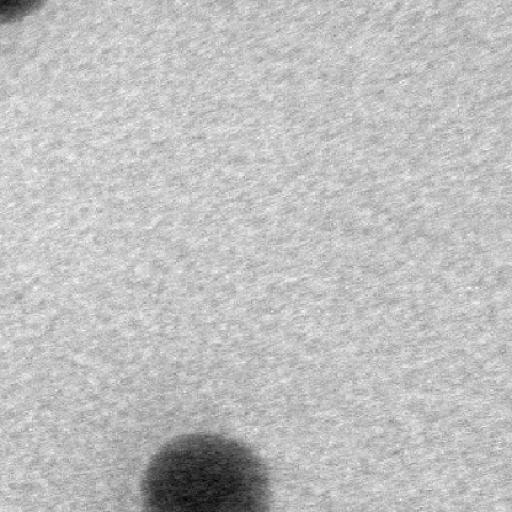Nanoparticles: (138, 425, 276, 512), (0, 0, 47, 30)
